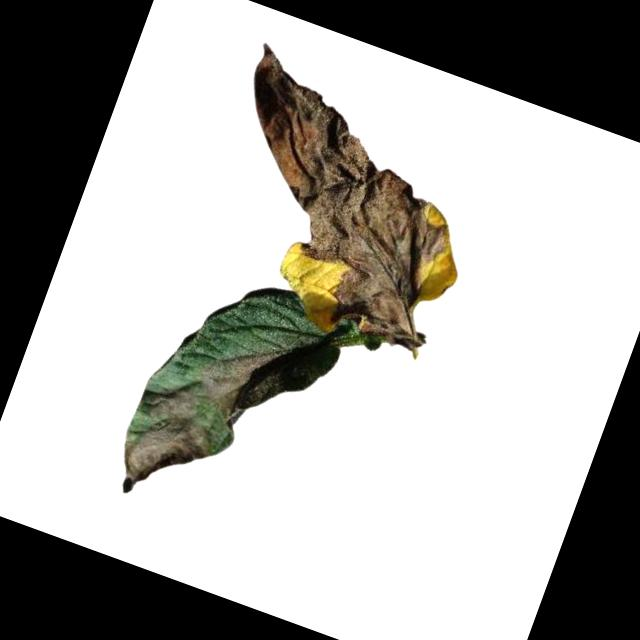Late_blight: (179, 40, 498, 360), (107, 376, 228, 514), (189, 324, 281, 434)
